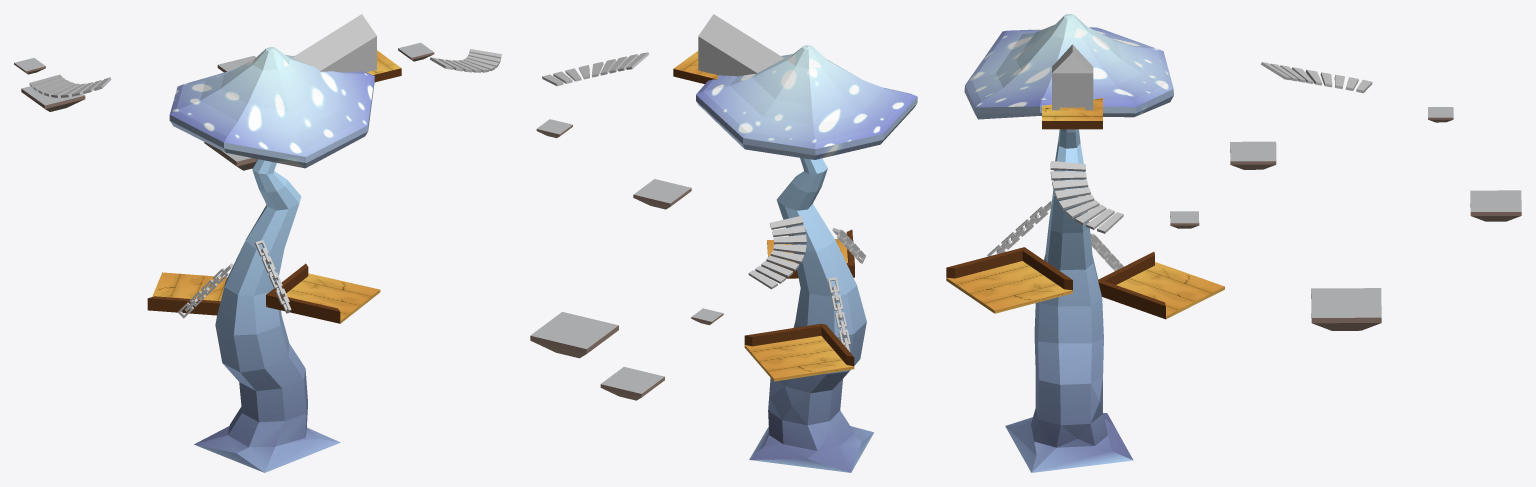
Rendered from MushroomChallenge.fbx.
3 views of the same model, side by side, from view 1: azimuth 30°, elevation 25°; view 2: azimuth 150°, elevation 25°; view 3: azimuth 270°, elevation 25° (orthographic). The views are drawn at different scales.
Visible parts, largest first — view 1: Cube.007, Cube.021, Cube.009, Cube, Cube.015, Cube.016, Cube.022, Cube.020, Cube.018, Cube.019; view 2: Cube.007, Cube, Cube.009, Cube.005, Cube.015, Cube.022, Cube.016, Cube.013, Cube.019, Cube.018, Cube.021, Cube.017; view 3: Cube.007, Cube.021, Cube, Cube.005, Cube.016, Cube.009, Cube.022, Cube.019, Cube.013, Cube.015, Cube.020.
Boxes of the visible parts, x1=… form: Cube.007: x1=169, y1=47, x2=374, y2=472; Cube.021: x1=266, y1=263, x2=380, y2=323; Cube.009: x1=292, y1=14, x2=376, y2=72; Cube: x1=147, y1=272, x2=227, y2=315; Cube.015: x1=29, y1=74, x2=111, y2=97; Cube.016: x1=430, y1=49, x2=501, y2=72; Cube.022: x1=21, y1=86, x2=85, y2=111; Cube.020: x1=254, y1=240, x2=291, y2=313; Cube.018: x1=178, y1=263, x2=233, y2=318; Cube.019: x1=367, y1=50, x2=401, y2=82; Cube.007: x1=696, y1=45, x2=917, y2=472; Cube: x1=744, y1=323, x2=854, y2=381; Cube.009: x1=698, y1=14, x2=784, y2=76; Cube.005: x1=530, y1=312, x2=618, y2=358; Cube.015: x1=748, y1=216, x2=806, y2=289; Cube.022: x1=600, y1=367, x2=664, y2=400; Cube.016: x1=542, y1=52, x2=649, y2=86; Cube.013: x1=633, y1=179, x2=691, y2=209; Cube.019: x1=673, y1=51, x2=718, y2=83; Cube.018: x1=827, y1=277, x2=850, y2=351; Cube.021: x1=767, y1=229, x2=854, y2=278; Cube.017: x1=536, y1=119, x2=572, y2=138; Cube.007: x1=964, y1=14, x2=1173, y2=472; Cube.021: x1=946, y1=247, x2=1072, y2=313; Cube: x1=1098, y1=252, x2=1224, y2=319; Cube.005: x1=1311, y1=288, x2=1381, y2=330; Cube.016: x1=1050, y1=161, x2=1123, y2=233; Cube.009: x1=1052, y1=44, x2=1093, y2=110; Cube.022: x1=1470, y1=190, x2=1521, y2=221; Cube.019: x1=1042, y1=98, x2=1102, y2=129; Cube.013: x1=1230, y1=141, x2=1276, y2=169; Cube.015: x1=1261, y1=62, x2=1372, y2=93; Cube.020: x1=987, y1=201, x2=1051, y2=256.
Size of the model in its own units: 3514 by 3841 by 4535.
